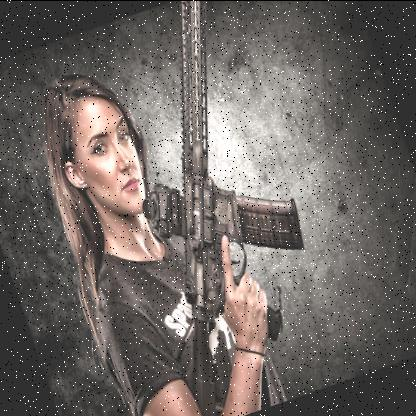rifle: (67, 0, 371, 416)
